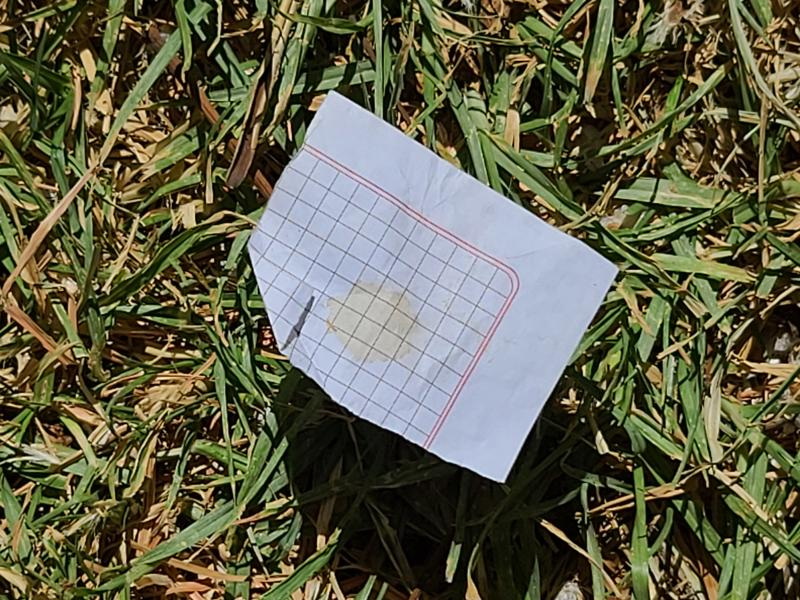papel: (247, 93, 618, 484)
